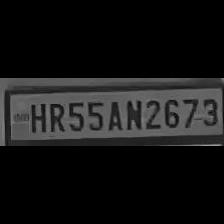2: (142, 96, 162, 130)
3: (198, 94, 218, 128)
5: (64, 98, 84, 132), (84, 97, 104, 131)
6: (160, 96, 180, 128)
7: (180, 96, 198, 128)
A: (104, 97, 124, 131)
H: (26, 100, 48, 134)
N: (122, 96, 142, 130)
R: (46, 99, 64, 133)
